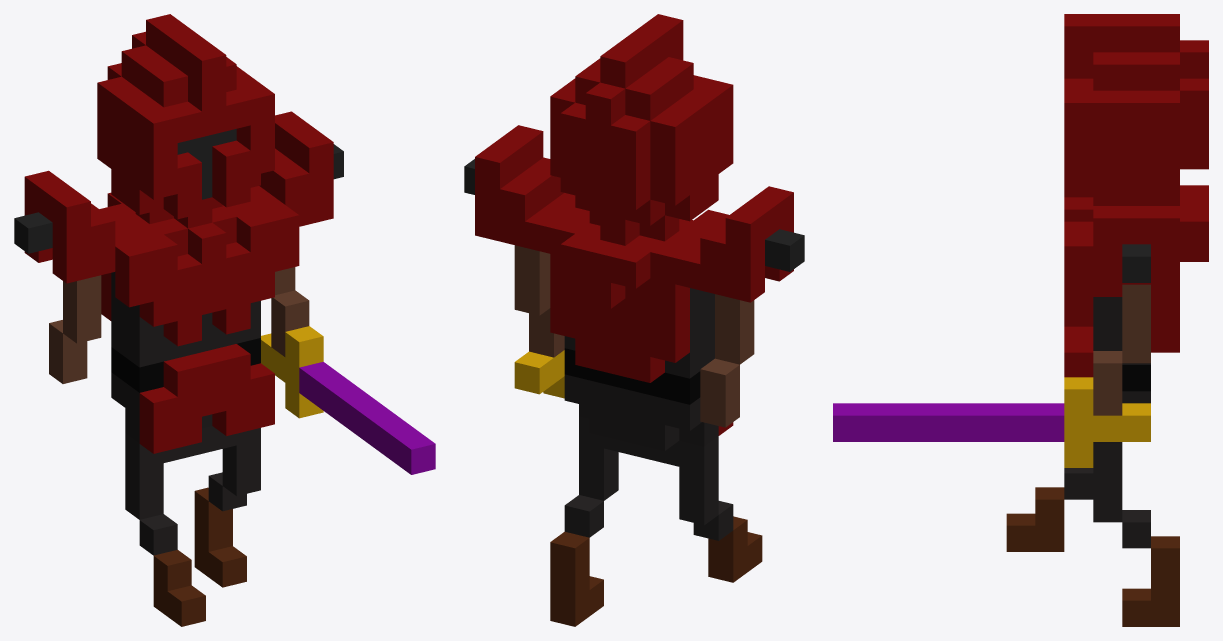
File: SwingingBlackNight-4.obj
The picture shows the model from 3 angles, left to right: view 1: azimuth 30°, elevation 25°; view 2: azimuth 150°, elevation 25°; view 3: azimuth 270°, elevation 25°; orthographic projection. The views are drawn at different scales.
Parts seen in each view (by area): view 1: SwingingBlackNight-4; view 2: SwingingBlackNight-4; view 3: SwingingBlackNight-4.
Part boxes in pixels (box(x1,y1,x2,y2)): SwingingBlackNight-4: box(14, 14, 435, 626); SwingingBlackNight-4: box(464, 14, 804, 626); SwingingBlackNight-4: box(833, 14, 1208, 626).
Bounding box in the file's own units: 13 × 22 × 13.
Materials: 1 (1 with a texture image).
